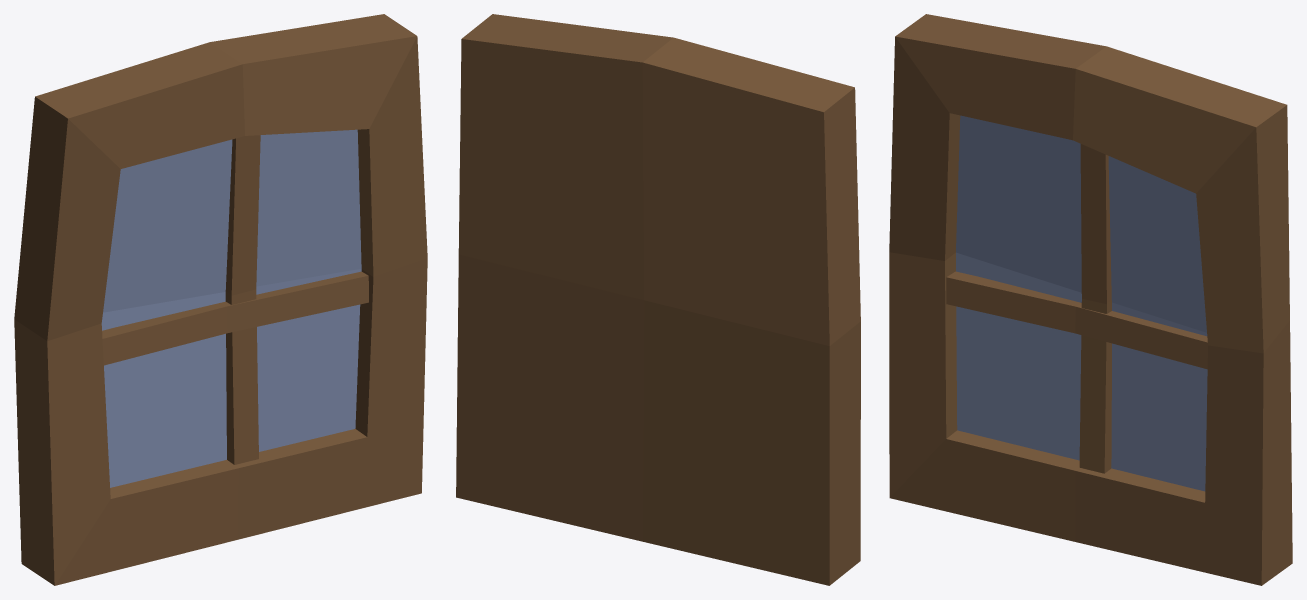
The model's file is Window_Square_2.fbx.
The picture shows the model from 3 angles, left to right: view 1: azimuth 30°, elevation 25°; view 2: azimuth 150°, elevation 25°; view 3: azimuth 330°, elevation 25°; orthographic projection.
Parts seen in each view (by area): view 1: Window_Square_2; view 2: Window_Square_2; view 3: Window_Square_2.
Boxes of the visible parts, left/top/right/bottom form: Window_Square_2: left=14, top=14, right=427, bottom=585; Window_Square_2: left=456, top=14, right=860, bottom=585; Window_Square_2: left=889, top=14, right=1292, bottom=585.
Bounding box in the file's own units: 74.39 × 89.65 × 13.44.
